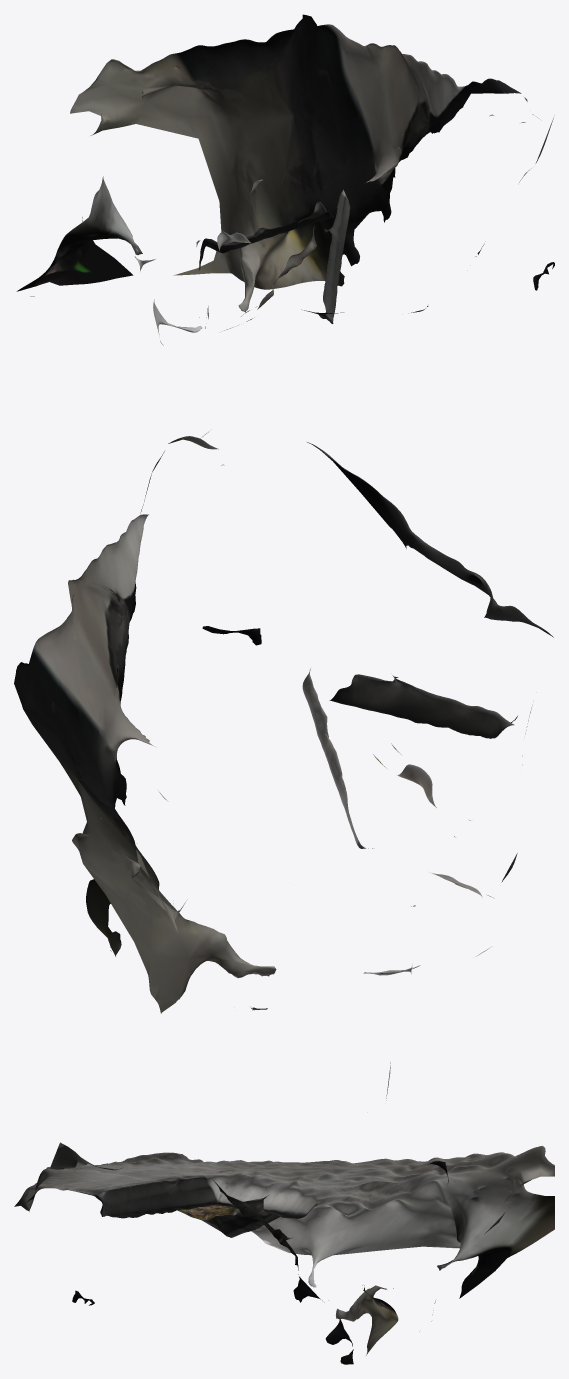
3 views of the same model, one above another, from view 1: azimuth 30°, elevation 25°; view 2: azimuth 150°, elevation 25°; view 3: azimuth 270°, elevation 25° (orthographic). The views are drawn at different scales.
Bounding box in the file's own units: 0.9191 × 0.7148 × 1.41.
1 material, 1 textured.
